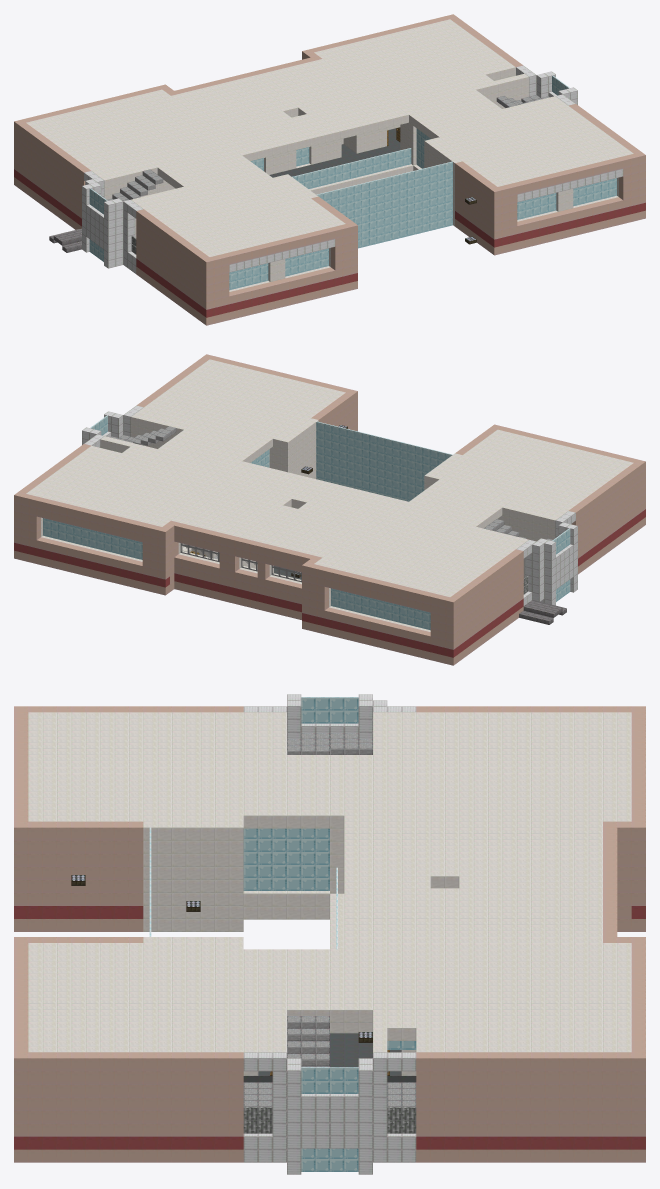
Rendered from senkoka3F.obj.
3 views of the same model, one above another, from view 1: azimuth 30°, elevation 25°; view 2: azimuth 150°, elevation 25°; view 3: azimuth 270°, elevation 25° (orthographic). The views are drawn at different scales.
Visible parts, largest first — view 1: R1KosenWorld__3_79_-217_to_68_86_-164; view 2: R1KosenWorld__3_79_-217_to_68_86_-164; view 3: R1KosenWorld__3_79_-217_to_68_86_-164.
Part boxes in pixels (left/top/right/bottom): R1KosenWorld__3_79_-217_to_68_86_-164: left=14, top=14, right=645, bottom=325; R1KosenWorld__3_79_-217_to_68_86_-164: left=14, top=354, right=645, bottom=665; R1KosenWorld__3_79_-217_to_68_86_-164: left=14, top=694, right=645, bottom=1174.
Size of the model in its own units: 64 by 8 by 44.
